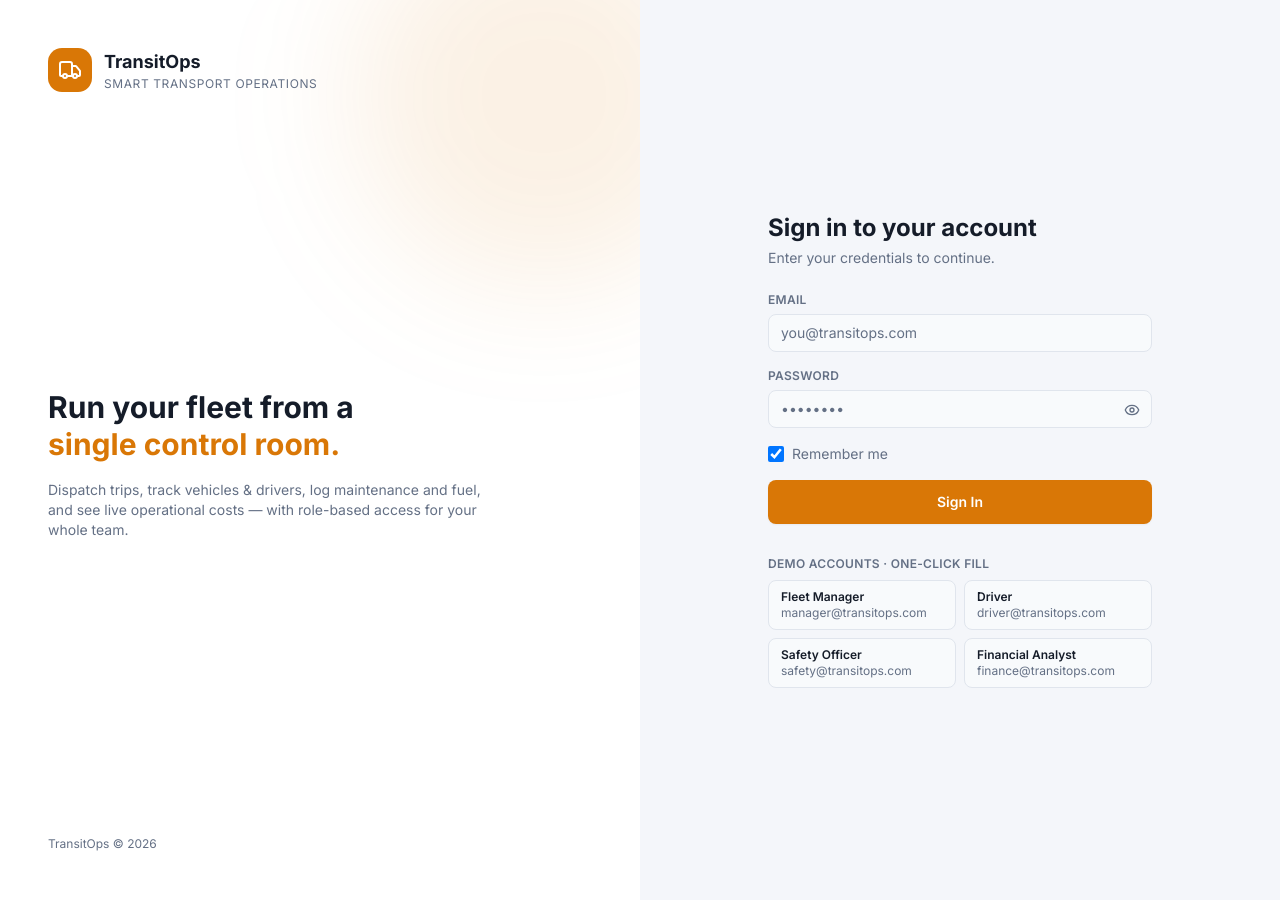
Test: LoginPage › populates fields from a demo account shortcut
Click the text "driver@transitops.com": (1041, 612) [977,605,1106,620]
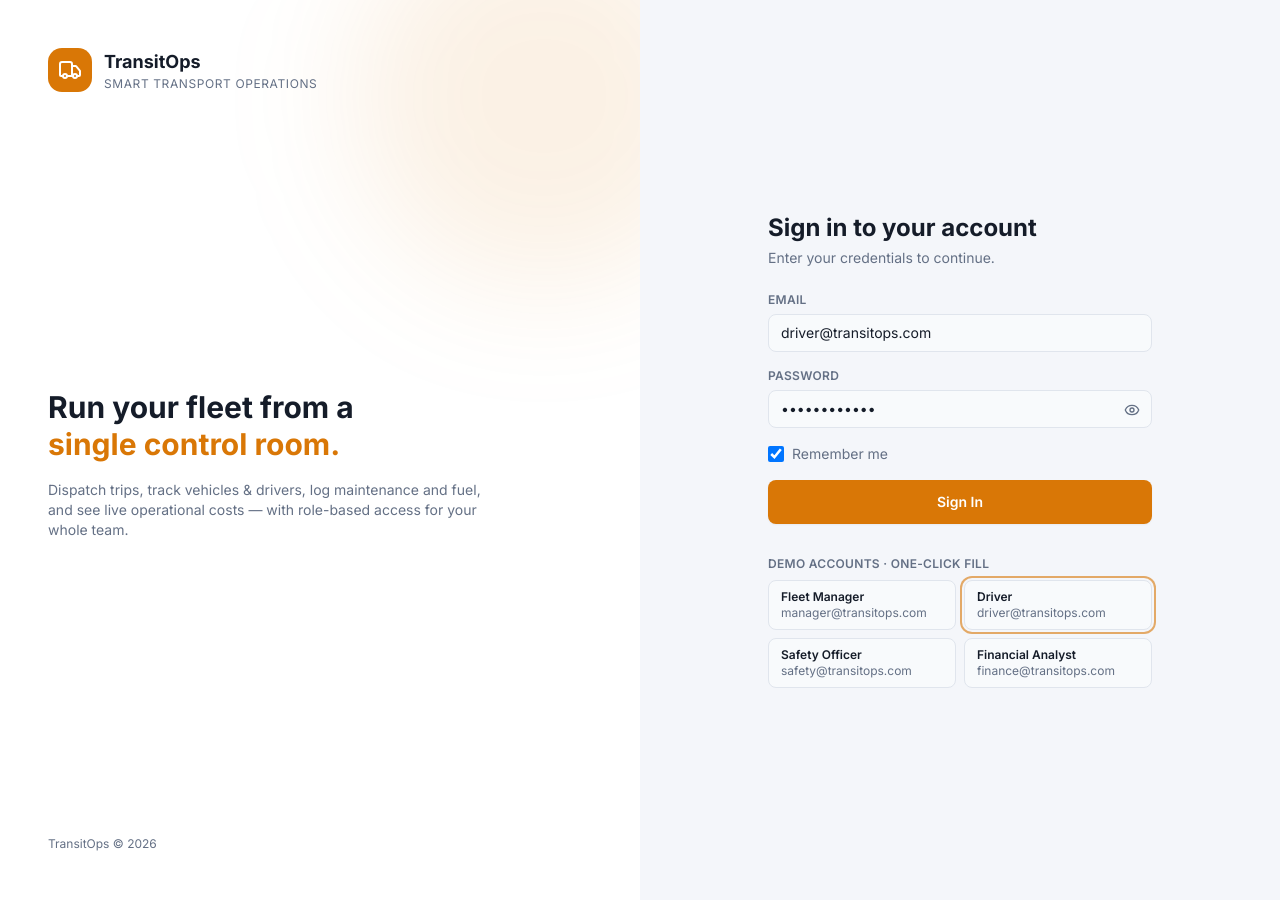
Expected: the field labelled "Email" holds "driver@transitops.com", [768,314,1152,352]
